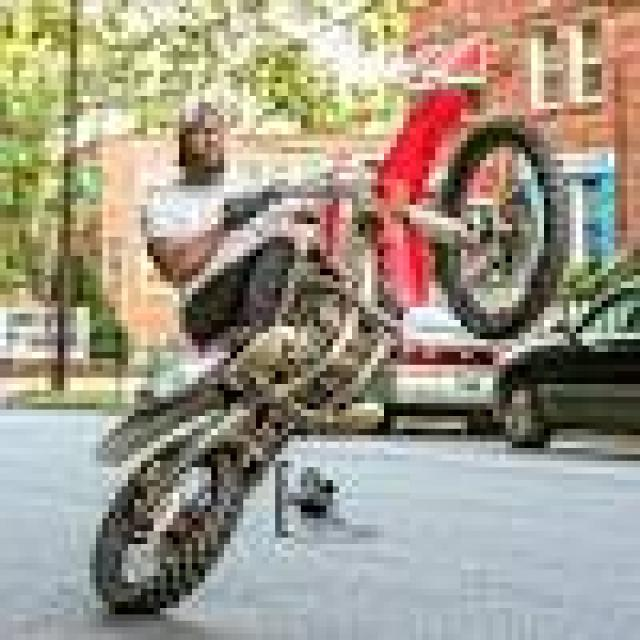Wheeling: (104, 100, 574, 526)
